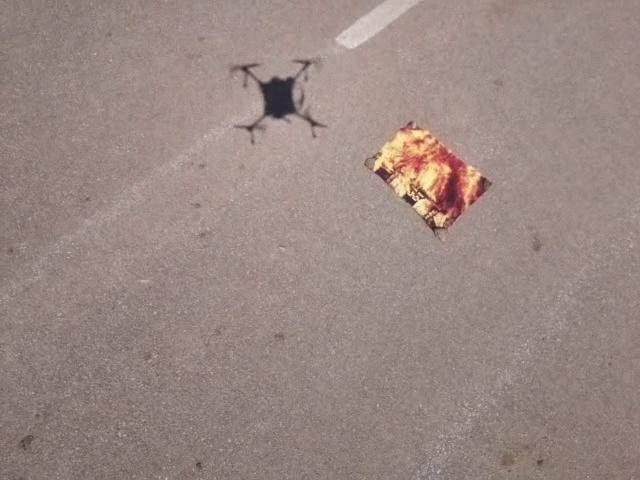fire-poster: (362, 118, 493, 242)
